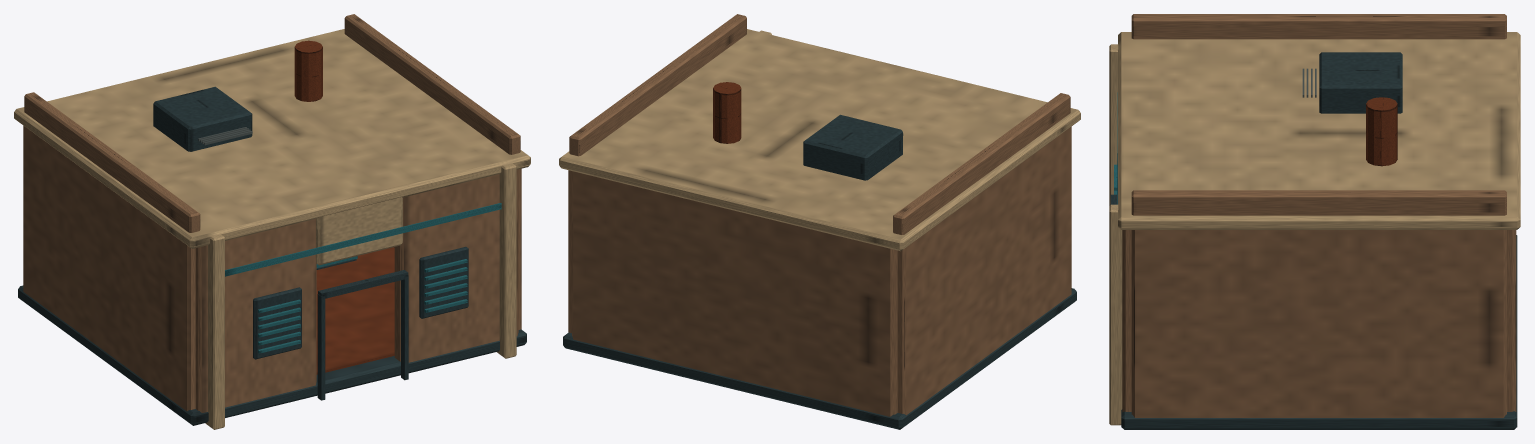
The model's file is workshop.glb.
The picture shows the model from 3 angles, left to right: view 1: azimuth 30°, elevation 25°; view 2: azimuth 150°, elevation 25°; view 3: azimuth 270°, elevation 25°; orthographic projection. The views are drawn at different scales.
Parts seen in each view (by area): view 1: workshop_plaster.001, workshop_pale.001, workshop_metal.001, workshop_rust.001, workshop_paint.001; view 2: workshop_plaster.001, workshop_pale.001, workshop_metal.001, workshop_rust.001; view 3: workshop_plaster.001, workshop_pale.001, workshop_metal.001, workshop_rust.001.
Part boxes in pixels (left/top/right/bottom): workshop_plaster.001: left=23, top=14, right=521, bottom=412; workshop_pale.001: left=14, top=29, right=530, bottom=429; workshop_metal.001: left=18, top=86, right=526, bottom=425; workshop_rust.001: left=294, top=40, right=394, bottom=374; workshop_paint.001: left=225, top=203, right=501, bottom=353; workshop_plaster.001: left=568, top=14, right=1071, bottom=416; workshop_pale.001: left=559, top=29, right=1080, bottom=251; workshop_metal.001: left=563, top=114, right=1076, bottom=429; workshop_rust.001: left=713, top=82, right=741, bottom=143; workshop_plaster.001: left=1122, top=14, right=1516, bottom=417; workshop_pale.001: left=1109, top=32, right=1520, bottom=425; workshop_metal.001: left=1110, top=52, right=1517, bottom=429; workshop_rust.001: left=1366, top=97, right=1397, bottom=166.
Bounding box in the file's own units: 10.65 × 7.25 × 9.86.
6 materials, 5 textured.
